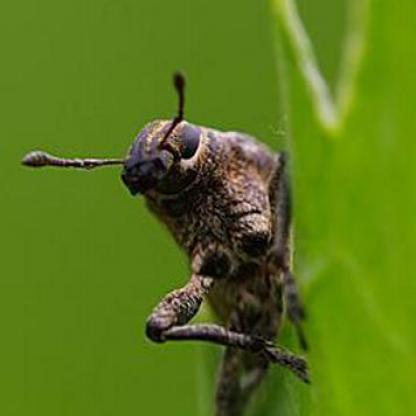rice-bug: (120, 98, 308, 386)
